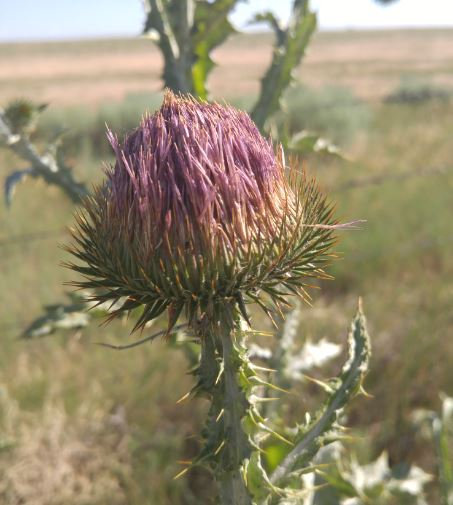thistle: (75, 85, 340, 339)
